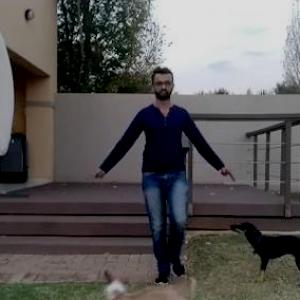land: (95, 77, 228, 288)
